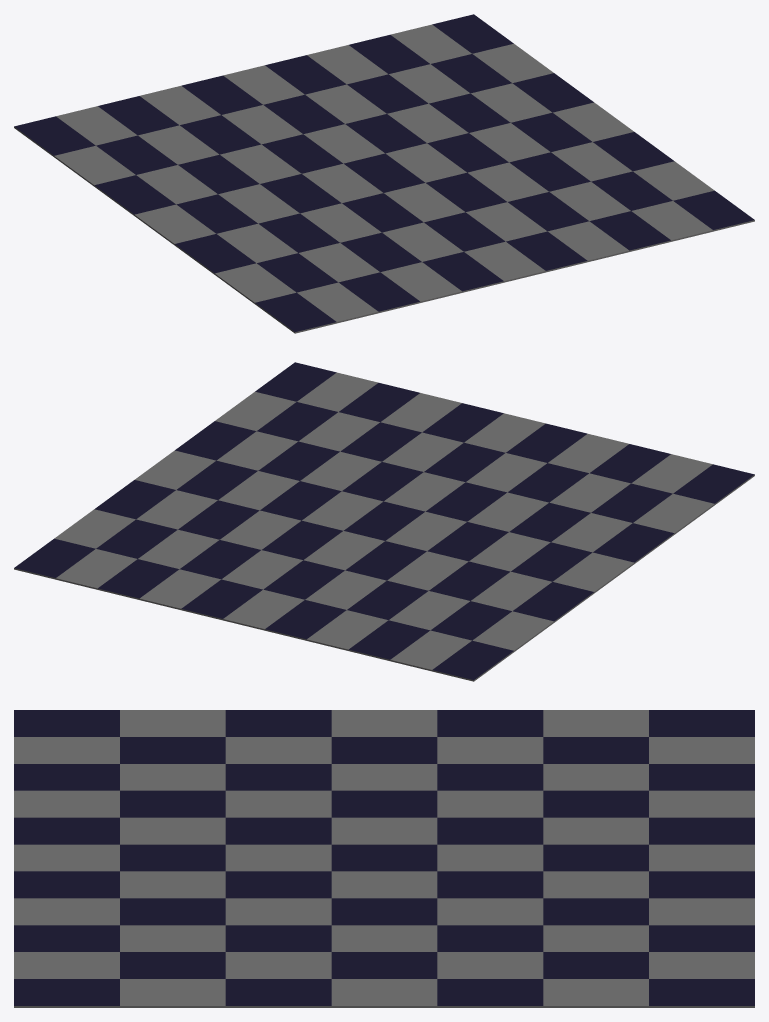
File: koc1.fbx
3 renders of one model, top to bottom at view 1: azimuth 30°, elevation 25°; view 2: azimuth 150°, elevation 25°; view 3: azimuth 270°, elevation 25°, orthographic. The views are drawn at different scales.
Visible parts, largest first — view 1: koc1; view 2: koc1; view 3: koc1.
Part boxes in pixels (bbox=[...]): koc1: bbox=[14, 14, 754, 333]; koc1: bbox=[14, 362, 754, 681]; koc1: bbox=[14, 710, 754, 1007].
Bounding box in the file's own units: 325 × 307 × 0.9519.
